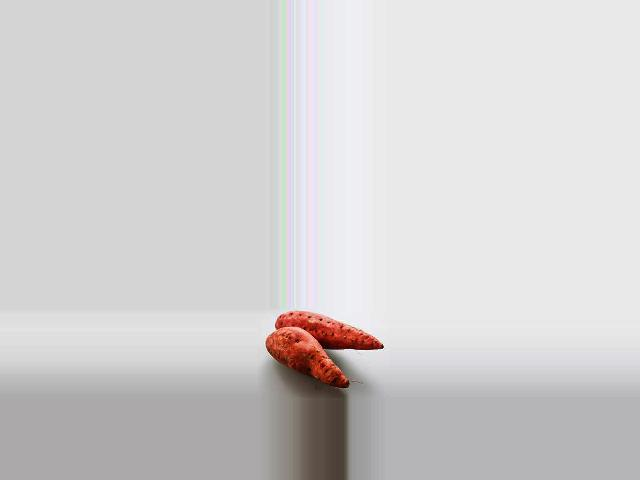sweet_potato: (275, 312, 376, 350)
